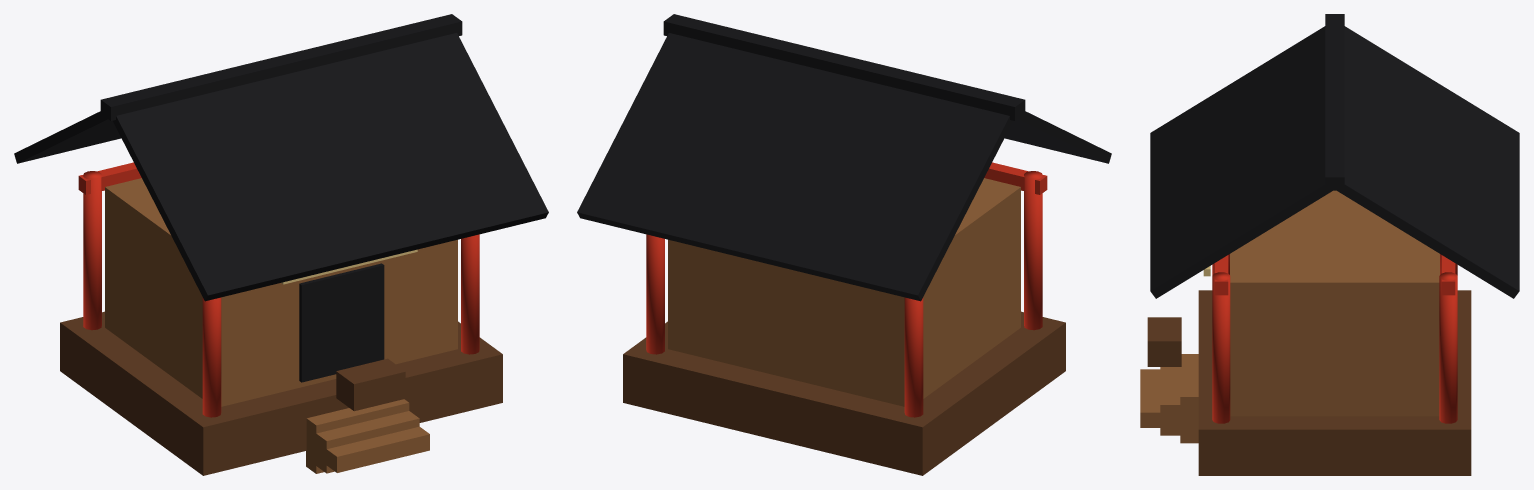
File: shrine.glb
The picture shows the model from 3 angles, left to right: view 1: azimuth 30°, elevation 25°; view 2: azimuth 150°, elevation 25°; view 3: azimuth 270°, elevation 25°; orthographic projection. The views are drawn at different scales.
Visible parts, largest first — view 1: ShrineMesh; view 2: ShrineMesh; view 3: ShrineMesh.
Boxes of the visible parts, left/top/right/bottom form: ShrineMesh: left=14, top=14, right=548, bottom=475; ShrineMesh: left=577, top=14, right=1111, bottom=475; ShrineMesh: left=1140, top=14, right=1519, bottom=475.
Bounding box in the file's own units: 6.8 × 6.34 × 6.68.
